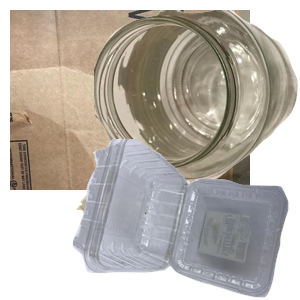cardboard: (10, 10, 250, 190)
glass: (94, 10, 300, 184)
plastic: (70, 139, 300, 300)
trash: (74, 148, 273, 300)
